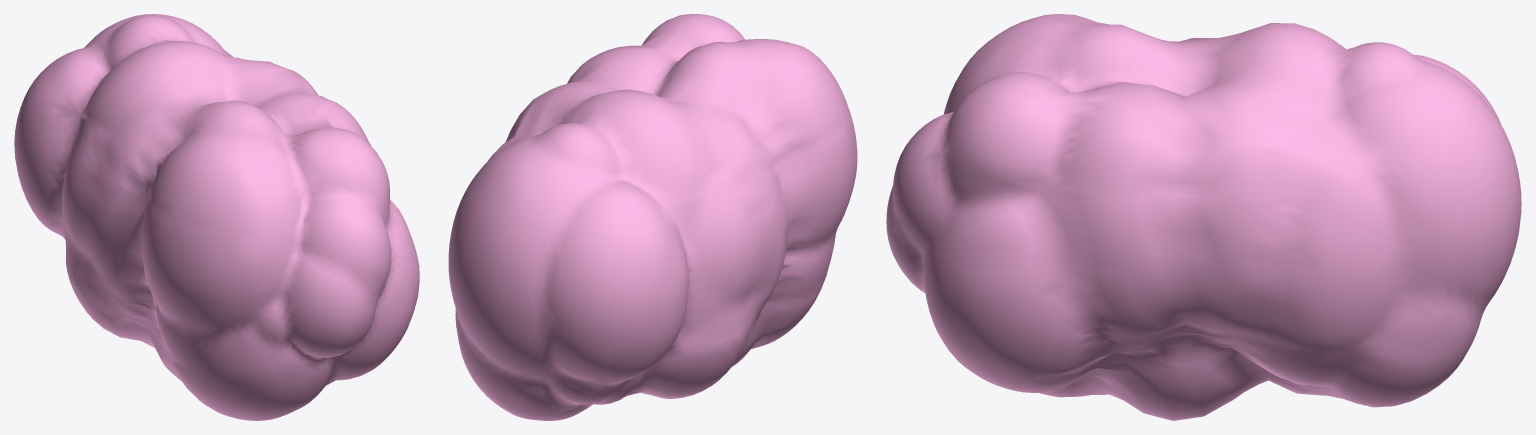
File: cloud2.fbx
3 views of the same model, side by side, from view 1: azimuth 30°, elevation 25°; view 2: azimuth 150°, elevation 25°; view 3: azimuth 270°, elevation 25° (orthographic). The views are drawn at different scales.
Parts seen in each view (by area): view 1: cloud2; view 2: cloud2; view 3: cloud2.
Part boxes in pixels (<box>): cloud2: <box>14,14,419,420</box>; cloud2: <box>448,14,857,420</box>; cloud2: <box>886,14,1521,420</box>.
Size of the model in its own units: 736 by 863 by 1346.
